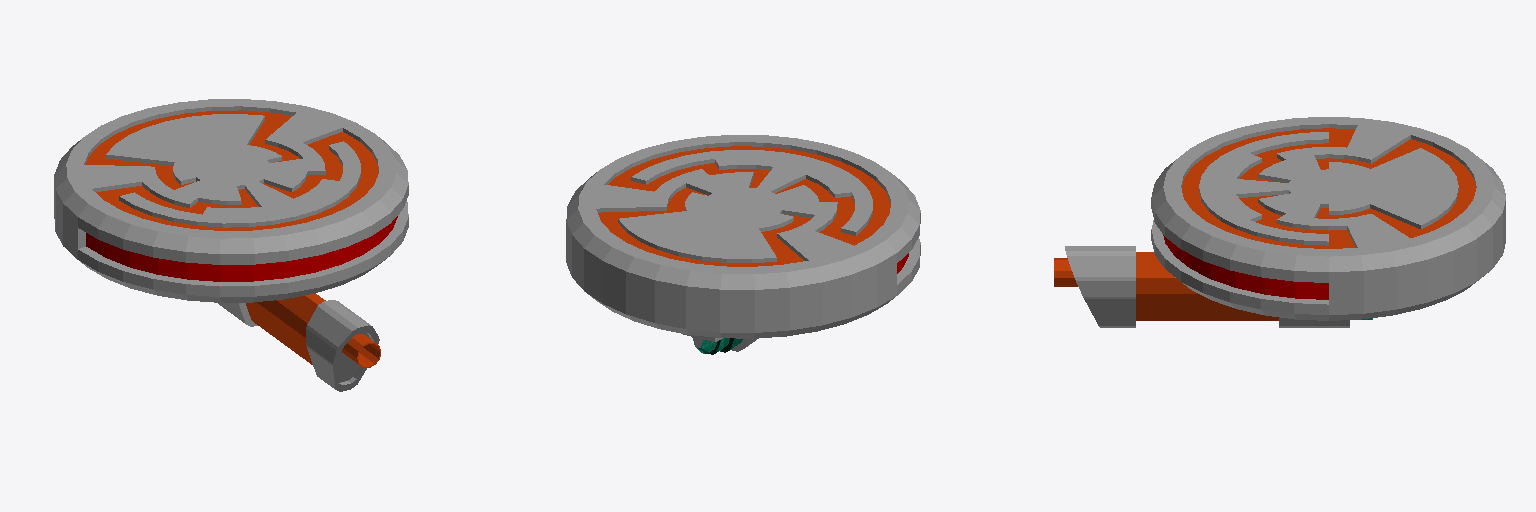
The picture shows the model from 3 angles: view 1: azimuth 30°, elevation 25°; view 2: azimuth 150°, elevation 25°; view 3: azimuth 270°, elevation 25°; orthographic projection.
Visible parts, largest first — view 1: Cylinder, Cube_Mesh; view 2: Cylinder, Cube_Mesh; view 3: Cylinder, Cube_Mesh.
Part boxes in pixels (bbox=[...]): Cylinder: bbox=[54, 99, 408, 302]; Cube_Mesh: bbox=[218, 293, 380, 391]; Cylinder: bbox=[566, 135, 920, 338]; Cube_Mesh: bbox=[683, 334, 758, 354]; Cylinder: bbox=[1151, 117, 1505, 320]; Cube_Mesh: bbox=[1054, 246, 1372, 327].
Size of the model in its own units: 1 by 0.4311 by 1.28.
Materials: 4 (1 with a texture image).